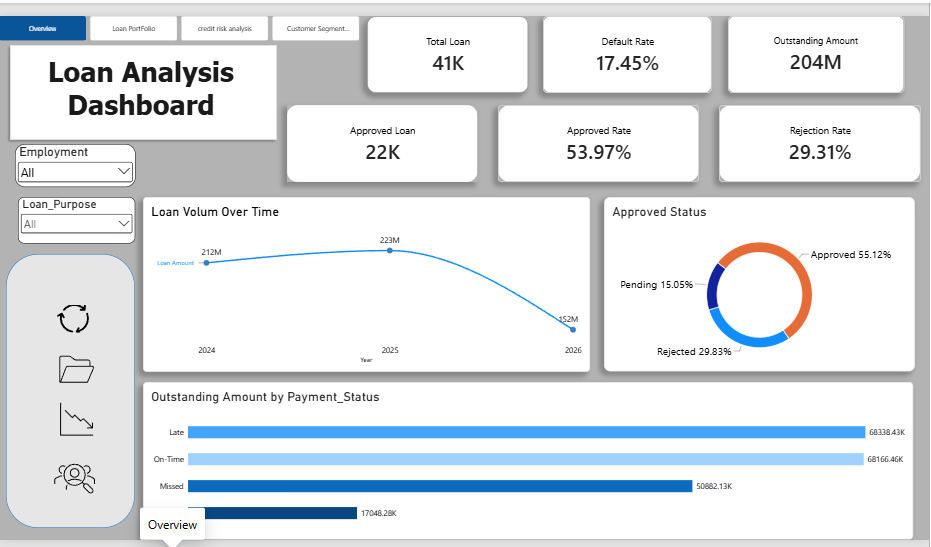

This screenshot's page, from the dashboard's own definition file:
{"tool":"powerbi","page":{"name":"Overview","canvas":[1920,1080],"ordinal":0},"visuals":[{"type":"cardVisual","fields":{"Data":["Fact_Loans.Total Loan"]},"box":[759.1,0,333.8,159.5],"z":0},{"type":"cardVisual","fields":{"Data":["Fact_Loans.Rejection Rate"]},"box":[1486.2,182.9,416.7,159.5],"z":1000},{"type":"cardVisual","fields":{"Data":["Fact_Loans.Default Rate"]},"box":[1122.7,0,348.7,159.5],"z":2000},{"type":"cardVisual","fields":{"Data":["Fact_Loans.Approved Loan"]},"box":[594.9,183,393.5,159.2],"z":3000},{"type":"cardVisual","fields":{"Data":["Fact_Loans.Approved Rate"]},"box":[1030.5,183,415.5,159.2],"z":4000},{"type":"lineChart","title":"Loan Volum Over Time","fields":{"Category":["Dim_Date.Year"],"Y":["Fact_Loans.Loan Amount"]},"box":[297.7,374.2,922.8,361.5],"z":5000},{"type":"cardVisual","fields":{"Data":["Fact_Loans.Outstanding Amount"]},"box":[1505.4,0,363.6,159.5],"z":6000},{"type":"donutChart","title":"Approved Status","fields":{"Category":["Fact_Loans.Approval_Status"],"Y":["Sum(Fact_Loans.Loan_Amount)"]},"box":[1248,374,642,360],"z":7000},{"type":"clusteredBarChart","fields":{"Category":["Dim_Payments.Payment_Status"],"Y":["Fact_Loans.Outstanding Amount"]},"box":[297.7,754.8,1590.4,325.3],"z":8000},{"type":"actionButton","box":[0,0,100,40],"z":9000},{"type":"shape","box":[14.9,51,567.7,212.6],"z":10000,"group":"g1"},{"type":"slicer","fields":{"Values":["Fact_Loans.Employment"]},"box":[34,263.7,248.8,89.3],"z":10000},{"type":"textbox","box":[48.9,80.8,491.2,151],"z":11000,"group":"g1"},{"type":"slicer","fields":{"Values":["Fact_Loans.Loan_Purpose"]},"box":[38.3,374.2,242.4,95.7],"z":11000},{"type":"pageNavigator","box":[0,0,744.2,51],"z":12000},{"type":"group","id":"g1","title":"Group 1","box":[14.9,51,567.7,212.6],"z":13000},{"type":"shape","box":[14.9,491.2,265.8,565.6],"z":14000,"group":"g2"},{"type":"actionButton","box":[99.9,597.4,110.6,57.4],"z":15000,"group":"g2"},{"type":"actionButton","box":[106.6,694.4,110.6,71.4],"z":16001,"group":"g2"},{"type":"actionButton","box":[106.6,797.6,110.6,71.4],"z":16002,"group":"g2"},{"type":"actionButton","box":[102.3,919.2,110.6,71.4],"z":16003,"group":"g2"},{"type":"group","id":"g2","title":"Group 2","box":[14.9,491.2,265.8,565.6],"z":16004}]}

Visuals, with their boxes on the page's 1920x1080 design canvas (x1, y1, x2, y2). These are canvas units, not pixel positions in the 931x547 screenshot, which may show the page scaled, cropped or inside an application window:
cardVisual - Fact_Loans.Total Loan: pyautogui.locateOnScreen(759, 0, 1093, 160)
cardVisual - Fact_Loans.Rejection Rate: pyautogui.locateOnScreen(1486, 183, 1903, 342)
cardVisual - Fact_Loans.Default Rate: pyautogui.locateOnScreen(1123, 0, 1471, 160)
cardVisual - Fact_Loans.Approved Loan: pyautogui.locateOnScreen(595, 183, 988, 342)
cardVisual - Fact_Loans.Approved Rate: pyautogui.locateOnScreen(1030, 183, 1446, 342)
"Loan Volum Over Time" lineChart: pyautogui.locateOnScreen(298, 374, 1220, 736)
cardVisual - Fact_Loans.Outstanding Amount: pyautogui.locateOnScreen(1505, 0, 1869, 160)
"Approved Status" donutChart: pyautogui.locateOnScreen(1248, 374, 1890, 734)
clusteredBarChart - Dim_Payments.Payment_Status x Fact_Loans.Outstanding Amount: pyautogui.locateOnScreen(298, 755, 1888, 1080)
actionButton: pyautogui.locateOnScreen(0, 0, 100, 40)
shape: pyautogui.locateOnScreen(15, 51, 583, 264)
slicer - Fact_Loans.Employment: pyautogui.locateOnScreen(34, 264, 283, 353)
textbox: pyautogui.locateOnScreen(49, 81, 540, 232)
slicer - Fact_Loans.Loan_Purpose: pyautogui.locateOnScreen(38, 374, 281, 470)
pageNavigator: pyautogui.locateOnScreen(0, 0, 744, 51)
"Group 1" group: pyautogui.locateOnScreen(15, 51, 583, 264)
shape: pyautogui.locateOnScreen(15, 491, 281, 1057)
actionButton: pyautogui.locateOnScreen(100, 597, 210, 655)
actionButton: pyautogui.locateOnScreen(107, 694, 217, 766)
actionButton: pyautogui.locateOnScreen(107, 798, 217, 869)
actionButton: pyautogui.locateOnScreen(102, 919, 213, 991)
"Group 2" group: pyautogui.locateOnScreen(15, 491, 281, 1057)
